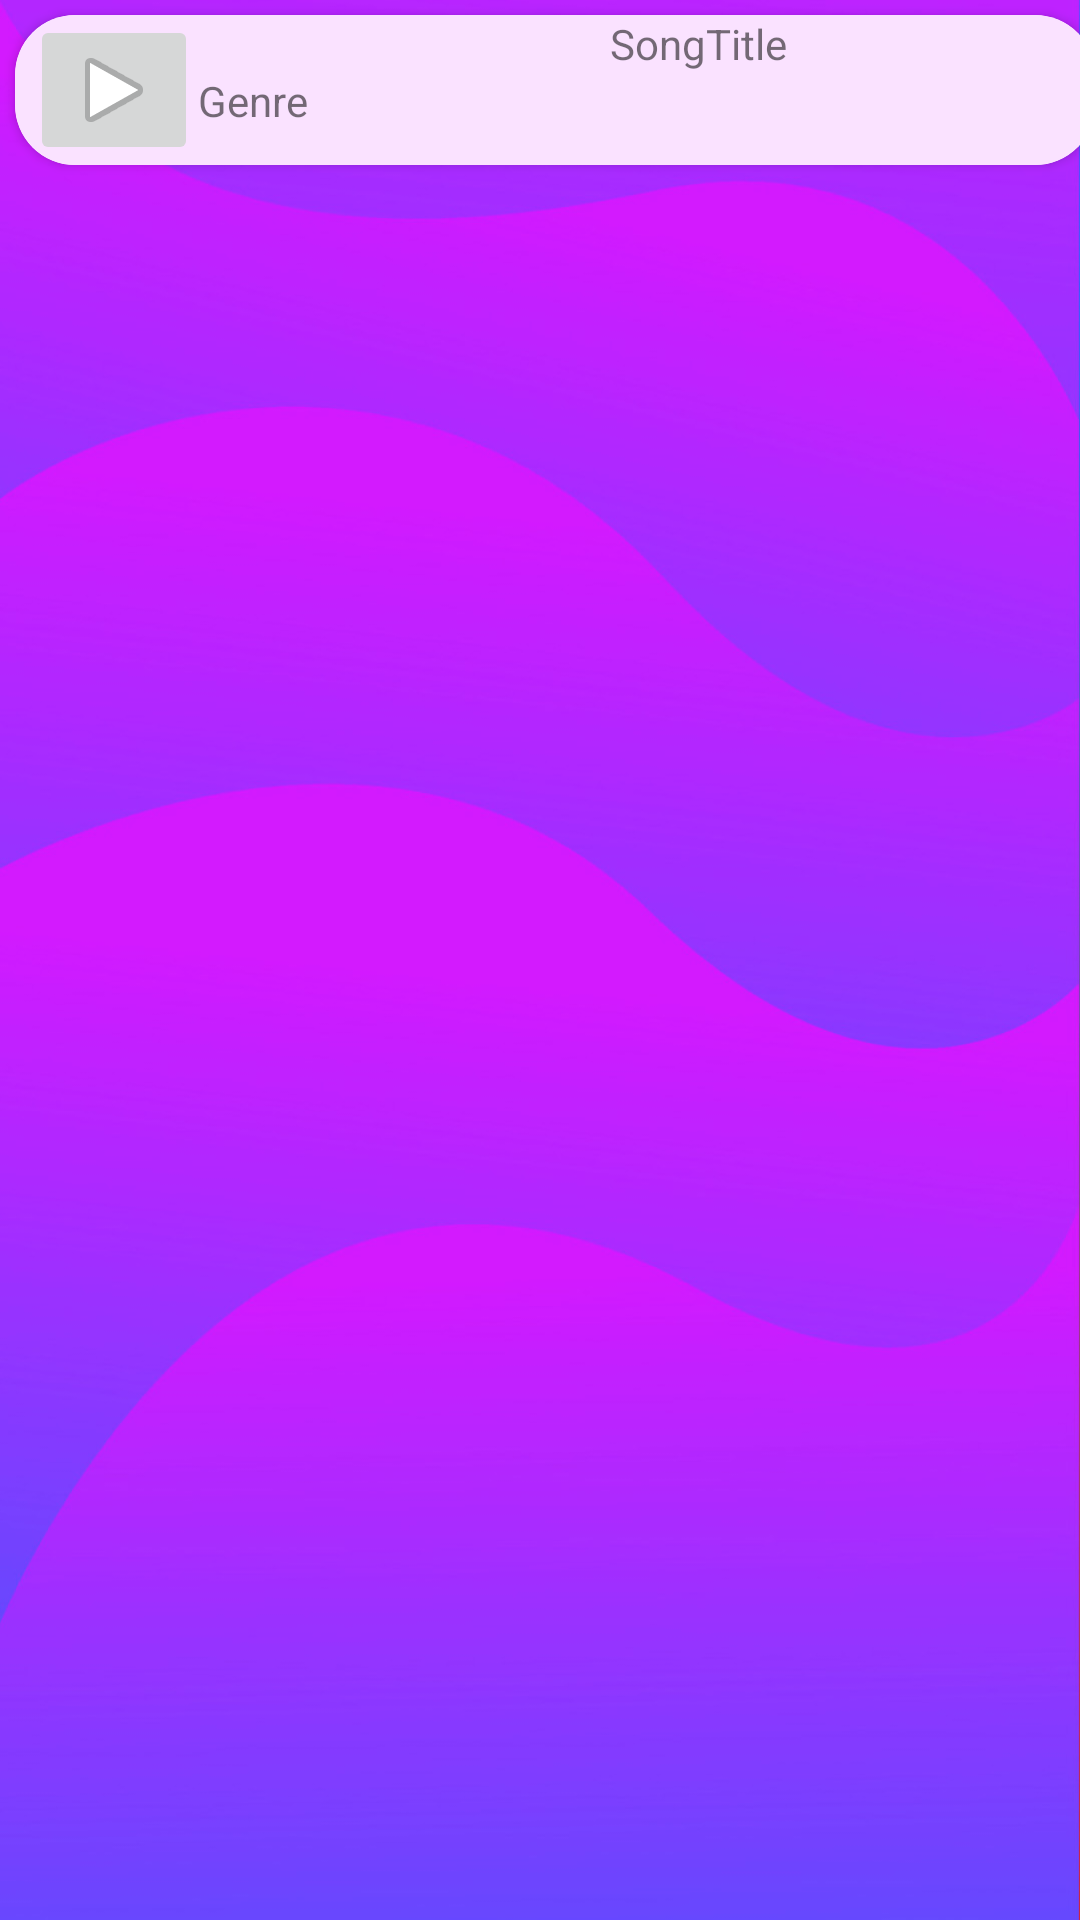

Icons on this 1080×1920 Android screen, each with the point to tap as point (x, y):
play: point (114, 90)
